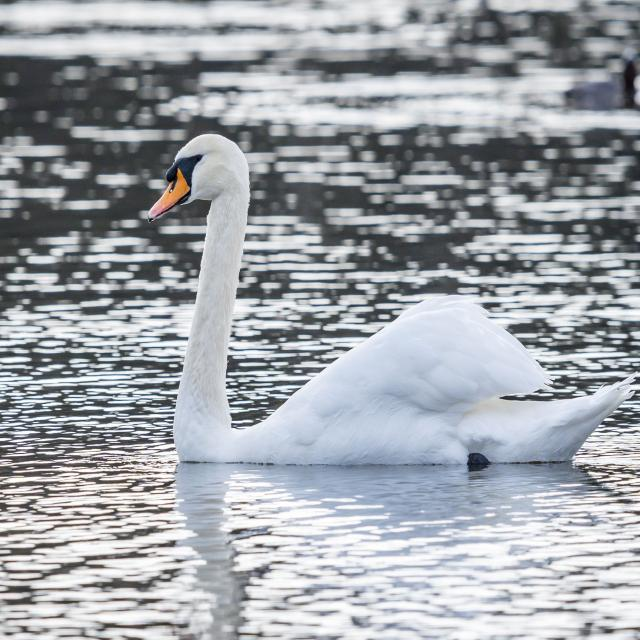swan: (148, 134, 634, 464)
